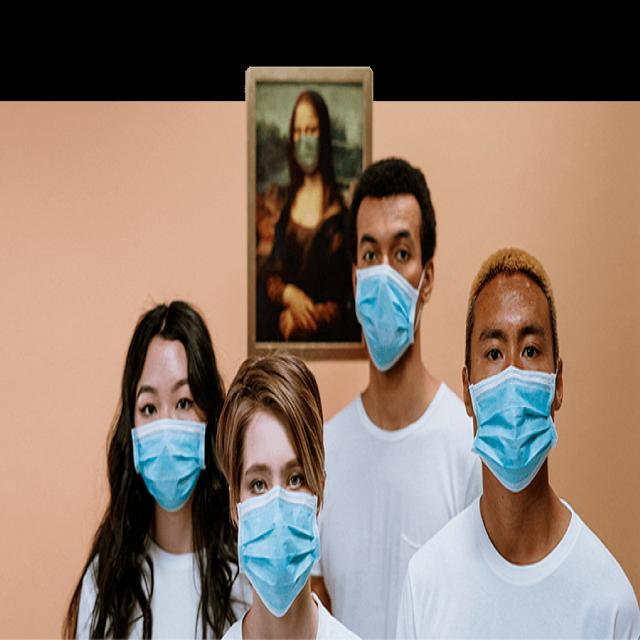adult: (412, 247, 636, 640), (310, 157, 483, 640), (78, 298, 240, 640), (213, 343, 327, 640)
